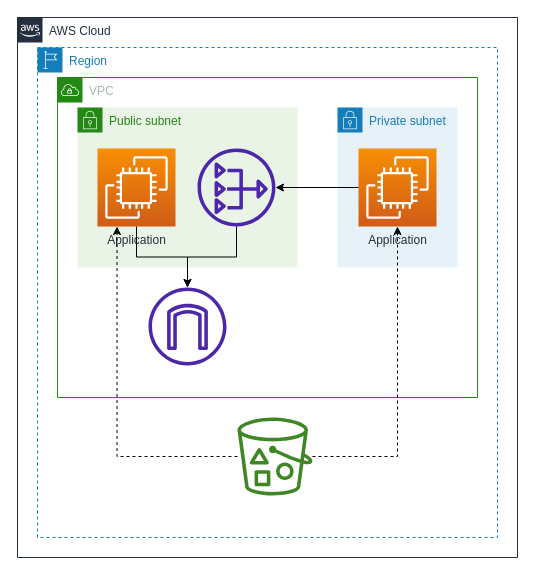
The diagram is 535 pixels wide and 575 high, and some of its shapes have lost their labels. The centre of each missing label's shape, as x and y in pixels:
"Application Source" goes at pixel 274 456.
"Internet gw." goes at pixel 187 326.
"NAT gw." goes at pixel 236 187.
